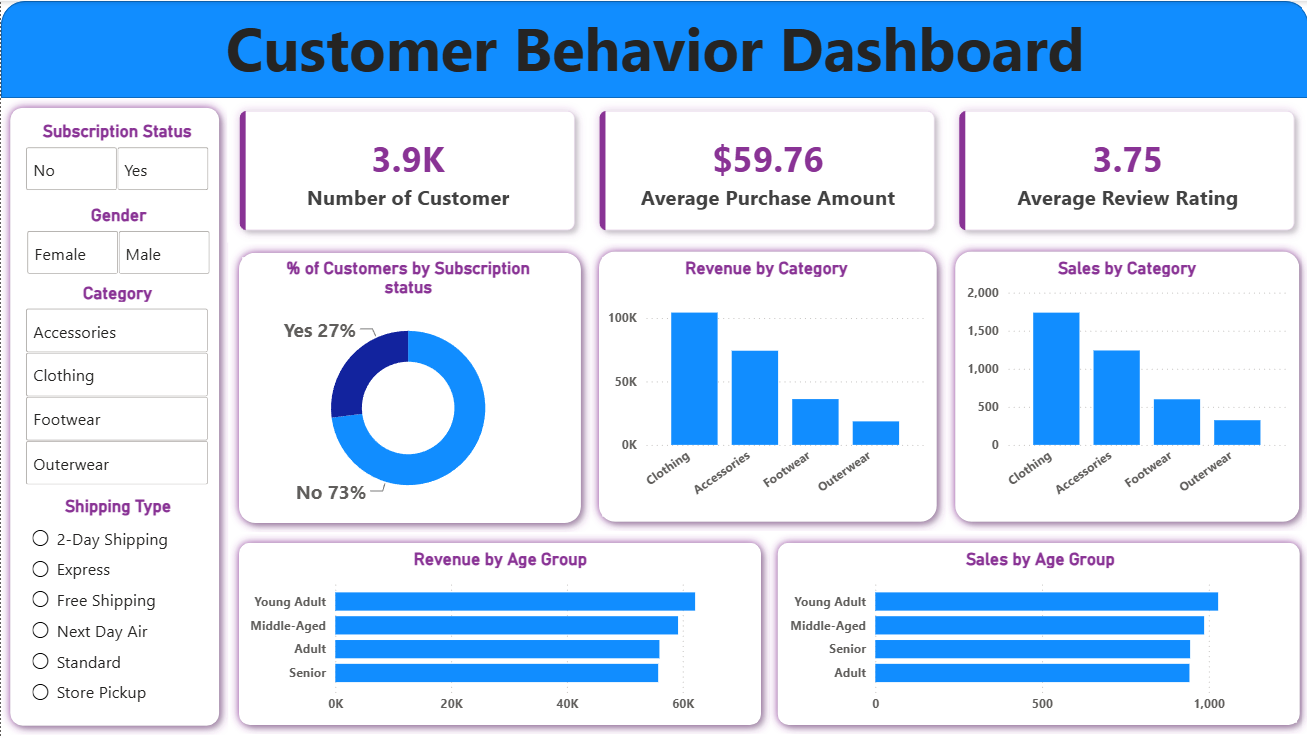

The page's visual inventory and layout, read from the dashboard file:
{"tool":"powerbi","page":{"name":"Page 1","canvas":[1280,720],"ordinal":0},"visuals":[{"type":"shape","box":[223.8,521.2,528.8,196.2],"z":0},{"type":"shape","box":[0,0,1280,95],"z":1000},{"type":"shape","box":[0,95,222.5,622.5],"z":2000},{"type":"shape","box":[223.8,237.5,352.5,282.5],"z":3000},{"type":"textbox","box":[0,0,1280,108.8],"z":4000},{"type":"donutChart","title":"% of Customers by Subscription status","fields":{"Category":["customer_behavior customer.subscription_status"],"Y":["Count(customer_behavior customer.customer_id)"]},"box":[236.5,251.2,325,253.8],"z":5000},{"type":"shape","box":[924.4,235.9,354.6,282.5],"z":6000},{"type":"shape","box":[576,236.6,348.5,282.5],"z":7000},{"type":"clusteredColumnChart","title":"Revenue by Category","fields":{"Y":["Sum(customer_behavior customer.purchase_amount)"],"Category":["customer_behavior customer.category"]},"box":[587.7,251.2,321.2,253.8],"z":8000},{"type":"clusteredColumnChart","title":"Sales by Category","fields":{"Category":["customer_behavior customer.category"],"Y":["Count(customer_behavior customer.customer_id)"]},"box":[940.2,251.2,322.5,253.8],"z":9000},{"type":"advancedSlicerVisual","title":"Subscription Status","fields":{"Values":["customer_behavior customer.subscription_status"]},"box":[19.1,117.1,188.3,73.4],"z":10000},{"type":"advancedSlicerVisual","title":"Gender","fields":{"Values":["customer_behavior customer.gender"]},"box":[21.2,198.8,188.8,73.8],"z":11000},{"type":"advancedSlicerVisual","title":"Category","fields":{"Values":["customer_behavior customer.category"]},"box":[20,275,188.8,205],"z":12000},{"type":"listSlicer","title":"Shipping Type","fields":{"Values":["customer_behavior customer.shipping_type"]},"box":[25,483.8,180,221.2],"z":13000},{"type":"cardVisual","fields":{"Data":["customer_behavior customer.Number of Customer","customer_behavior customer.Average Purchase Amount","customer_behavior customer.Average Review Rating"]},"box":[221.2,95,1057.5,141.2],"z":14000},{"type":"clusteredBarChart","title":"Revenue by Age Group","fields":{"Category":["customer_behavior customer.age_group"],"Y":["Sum(customer_behavior customer.purchase_amount)"]},"box":[237.5,535,502.5,170],"z":15000},{"type":"shape","box":[751.2,521.2,528.8,196.2],"z":16000},{"type":"clusteredBarChart","title":"Sales by Age Group","fields":{"Category":["customer_behavior customer.age_group"],"Y":["Count(customer_behavior customer.customer_id)"]},"box":[765,535,502.5,170],"z":16001}]}

Visuals, with their boxes in screenshot pixels (x1, y1, x2, y2), scaled from the page's 1280x720 canvas onto the 1307x737 screenshot:
shape: 229,534,768,734
shape: 0,0,1306,97
shape: 0,97,227,734
shape: 229,243,588,532
textbox: 0,0,1306,111
"% of Customers by Subscription status" donutChart: 241,257,573,517
shape: 944,241,1306,531
shape: 588,242,944,531
"Revenue by Category" clusteredColumnChart: 600,257,928,517
"Sales by Category" clusteredColumnChart: 960,257,1289,517
"Subscription Status" advancedSlicerVisual: 20,120,212,195
"Gender" advancedSlicerVisual: 22,203,214,279
"Category" advancedSlicerVisual: 20,281,213,491
"Shipping Type" listSlicer: 26,495,209,722
cardVisual - customer_behavior customer.Number of Customer x customer_behavior customer.Average Purchase Amount: 226,97,1306,242
"Revenue by Age Group" clusteredBarChart: 243,548,756,722
shape: 767,534,1306,734
"Sales by Age Group" clusteredBarChart: 781,548,1294,722
